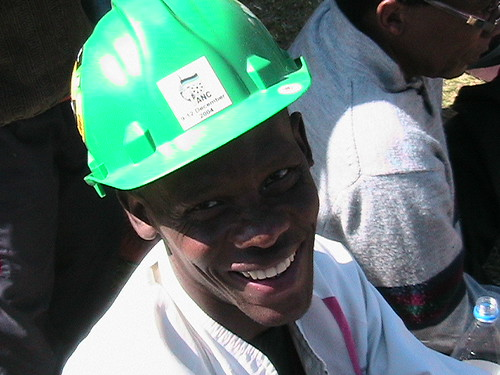person hardhat: (64, 1, 403, 375)
